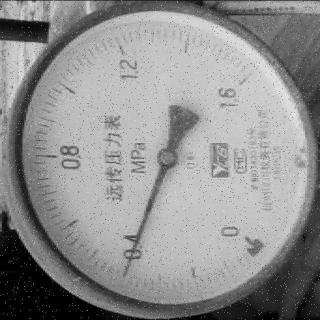gauge: (0, 0, 320, 320), (213, 200, 271, 266), (221, 68, 253, 100), (157, 145, 179, 169), (119, 260, 135, 282)
